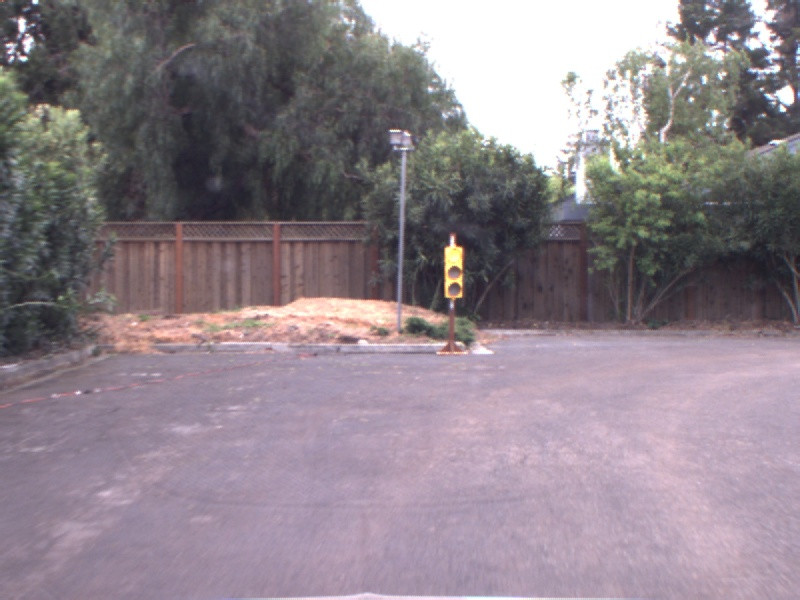red: (439, 242, 468, 300)
